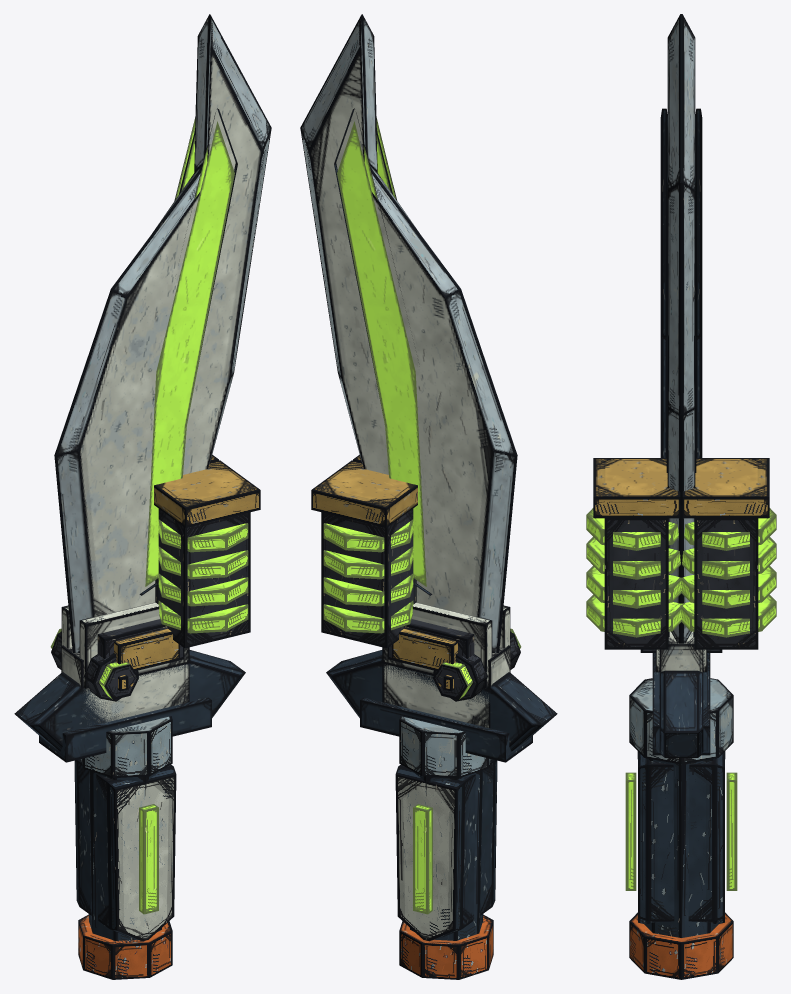
The model's file is 04_Seraphim.glb.
The picture shows the model from 3 angles, left to right: view 1: azimuth 30°, elevation 25°; view 2: azimuth 150°, elevation 25°; view 3: azimuth 270°, elevation 25°; orthographic projection. The views are drawn at different scales.
Visible parts, largest first — view 1: blade_maliwan, grip_maliwan, FACE_FRONT (×2); view 2: blade_maliwan, grip_maliwan, FACE_BACK (×2); view 3: blade_maliwan, grip_maliwan, FACE_FRONT, FACE_BACK.
Boxes of the visible parts, x1,y1,x2,y2 form: blade_maliwan: [14, 14, 271, 762]; grip_maliwan: [74, 716, 176, 979]; FACE_FRONT (×2): [84, 460, 260, 701]; blade_maliwan: [300, 14, 557, 762]; grip_maliwan: [395, 716, 497, 979]; FACE_BACK (×2): [311, 460, 487, 701]; blade_maliwan: [652, 14, 710, 757]; grip_maliwan: [625, 678, 737, 979]; FACE_FRONT: [586, 458, 684, 652]; FACE_BACK: [680, 458, 776, 652].
Bounding box in the file's own units: 0.53 × 1.88 × 0.3285.
8 materials, 8 textured.
